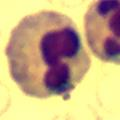neutrophil: (7, 12, 94, 99)
